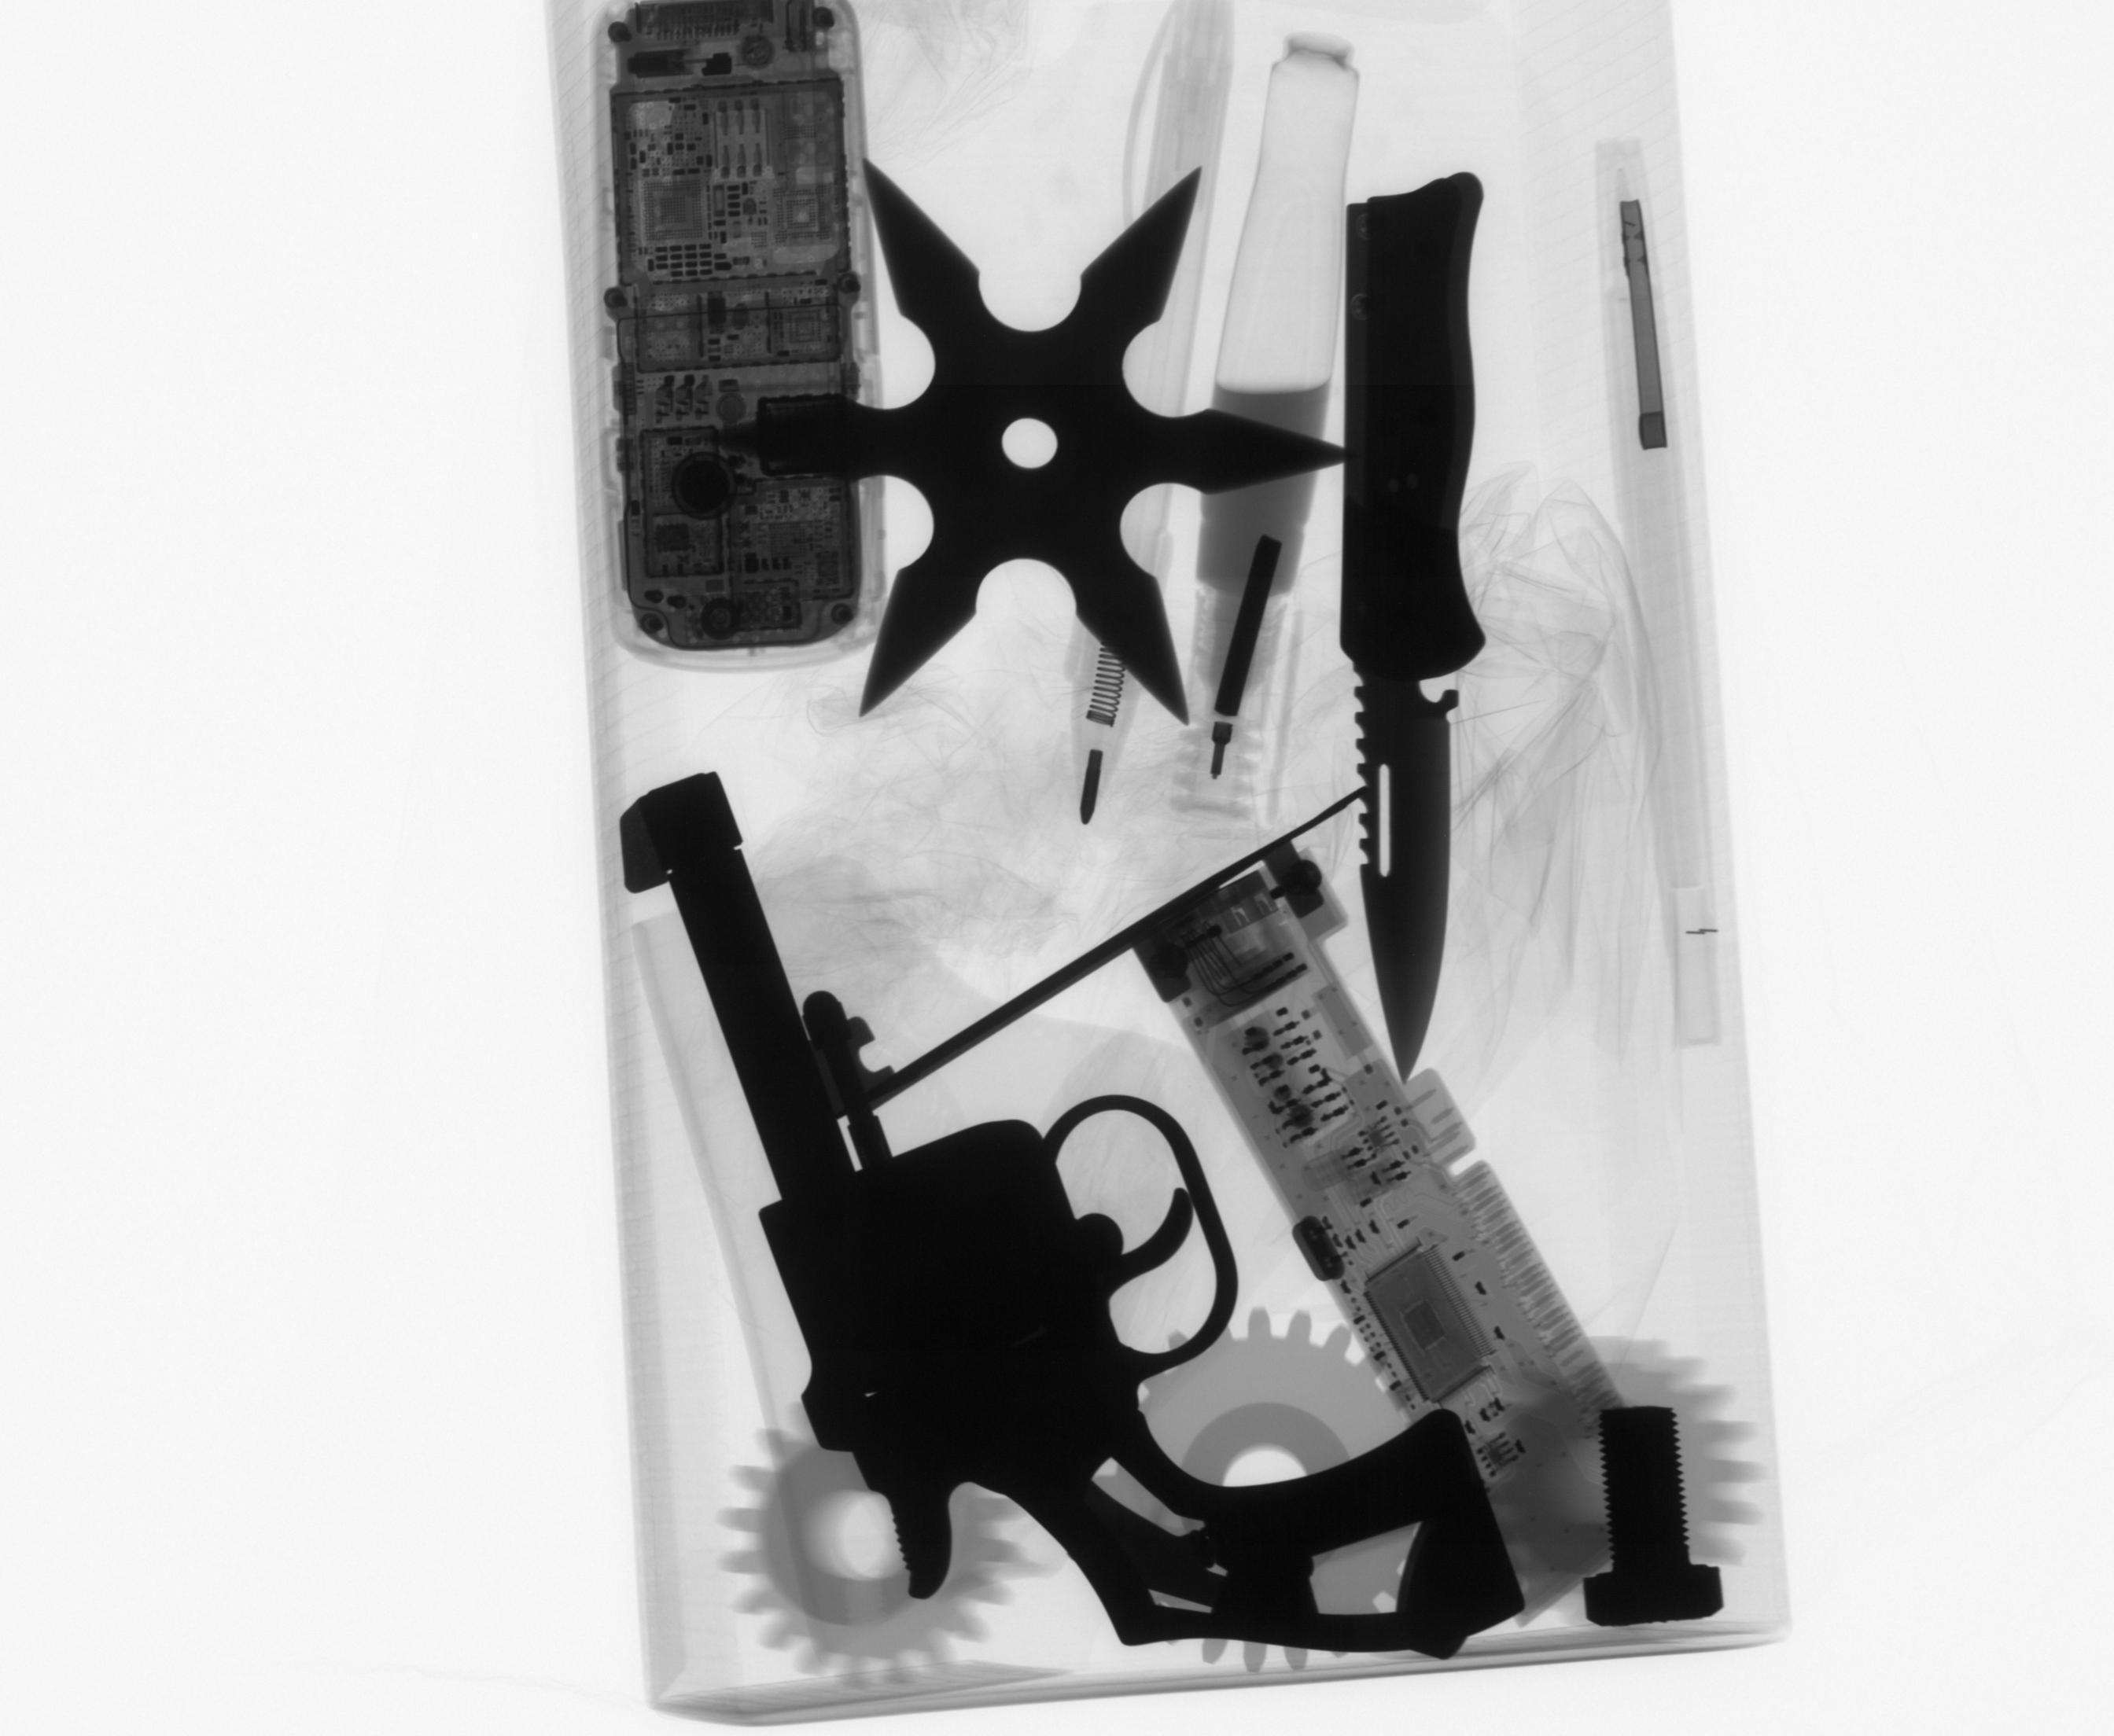Handgun: (616, 760, 1538, 1659)
Knife: (1330, 164, 1500, 1093)
Shuriken: (688, 141, 1357, 742)
